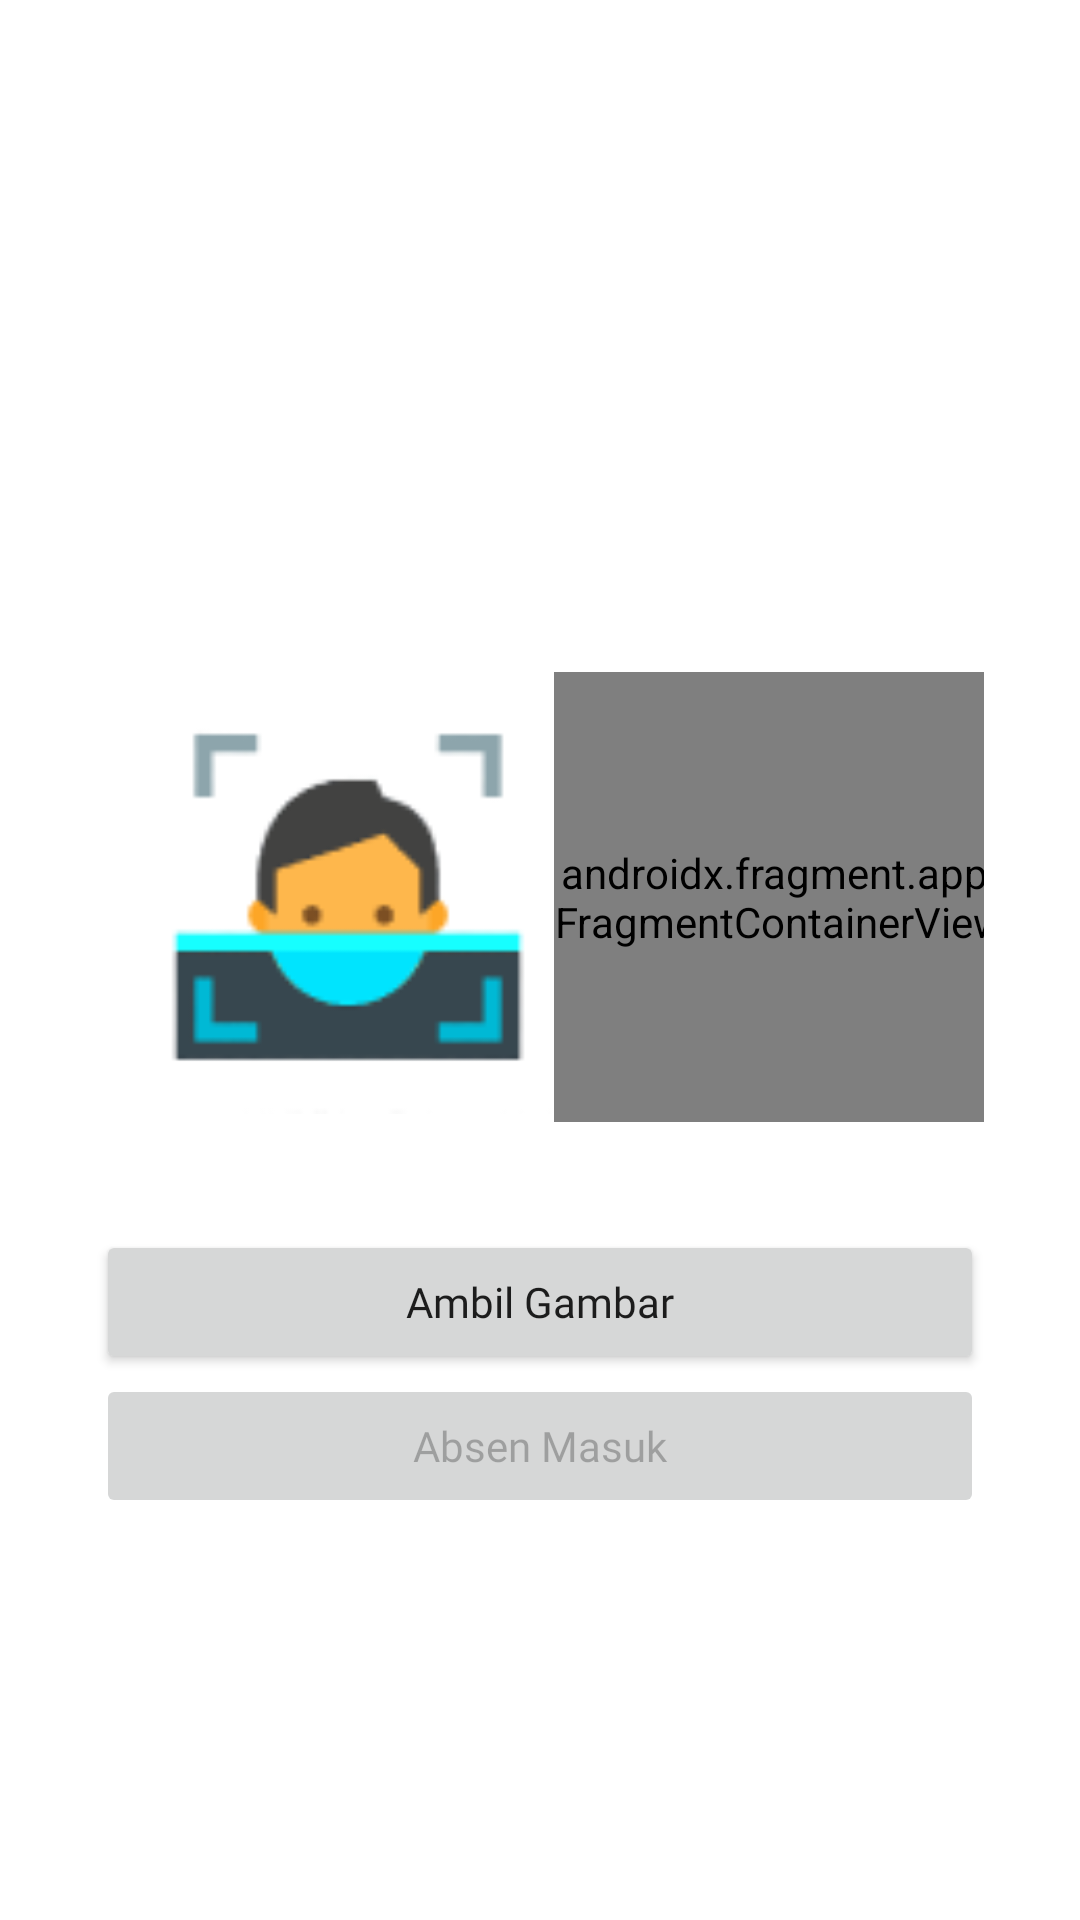

Icons on this 1080*1920 Android screen, each with the point to tap as (x=x, y=y):
Foto Pegawai: (x=348, y=897)
